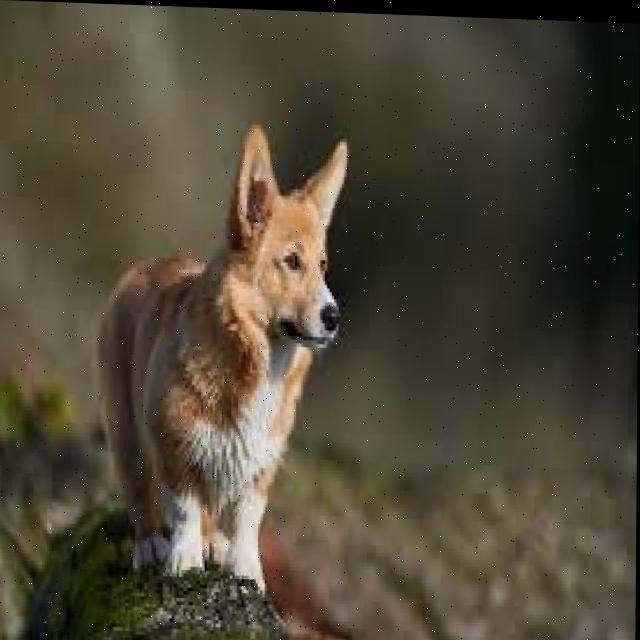CORGI: (67, 117, 359, 605)
